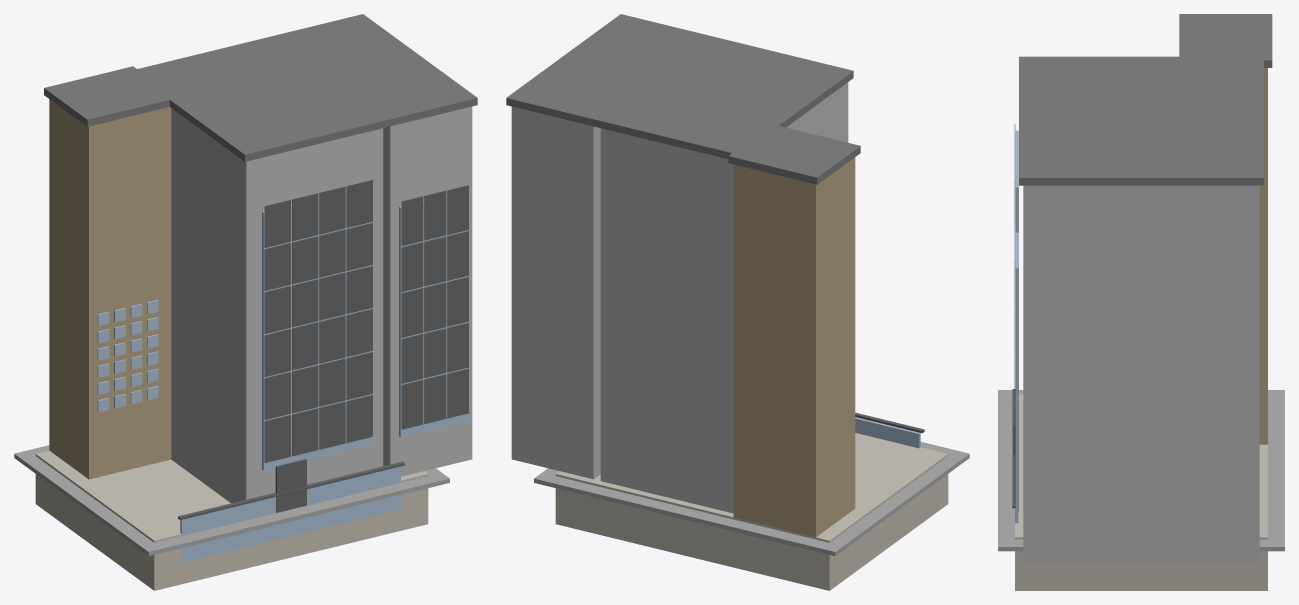
Rendered from modern_building.glb.
3 renders of one model, left to right at view 1: azimuth 30°, elevation 25°; view 2: azimuth 150°, elevation 25°; view 3: azimuth 270°, elevation 25°, orthographic. The views are drawn at different scales.
Parts seen in each view (by area): view 1: world; view 2: world; view 3: world.
Part boxes in pixels (left/top/right/bottom): world: left=14, top=14, right=477, bottom=590; world: left=506, top=14, right=969, bottom=590; world: left=998, top=14, right=1284, bottom=590.
Bounding box in the file's own units: 24.75 × 28.75 × 17.
